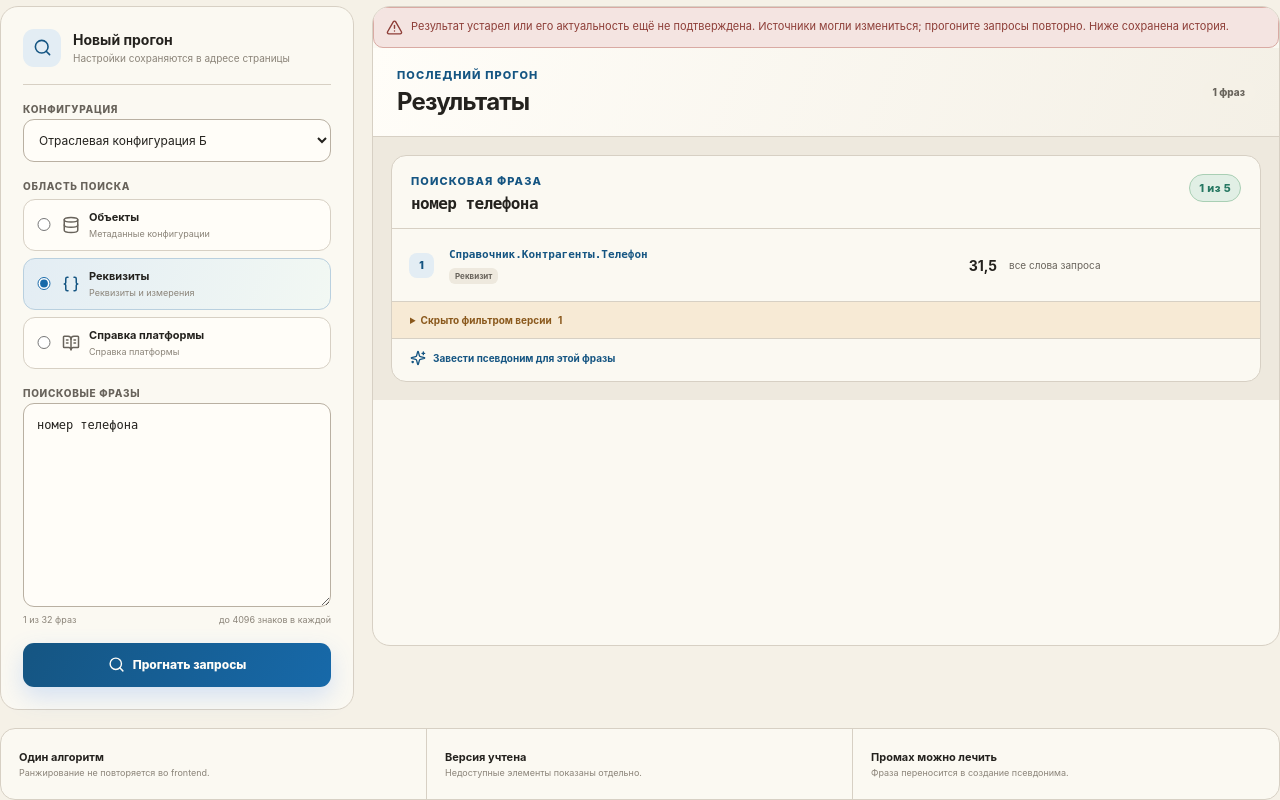
Test: помечает сохранённую выдачу ревизии old-generation, не теряя фразы и ссылки
(page scrolled)
Expected: the text "Результат устарел" is shown, [411, 18, 1229, 32]
Expected: the text box labelled "Поисковые фразы" holds "номер телефона", [23, 402, 331, 607]
Click the button "Прогнать запросы" at (177, 665), box [23, 643, 331, 687]
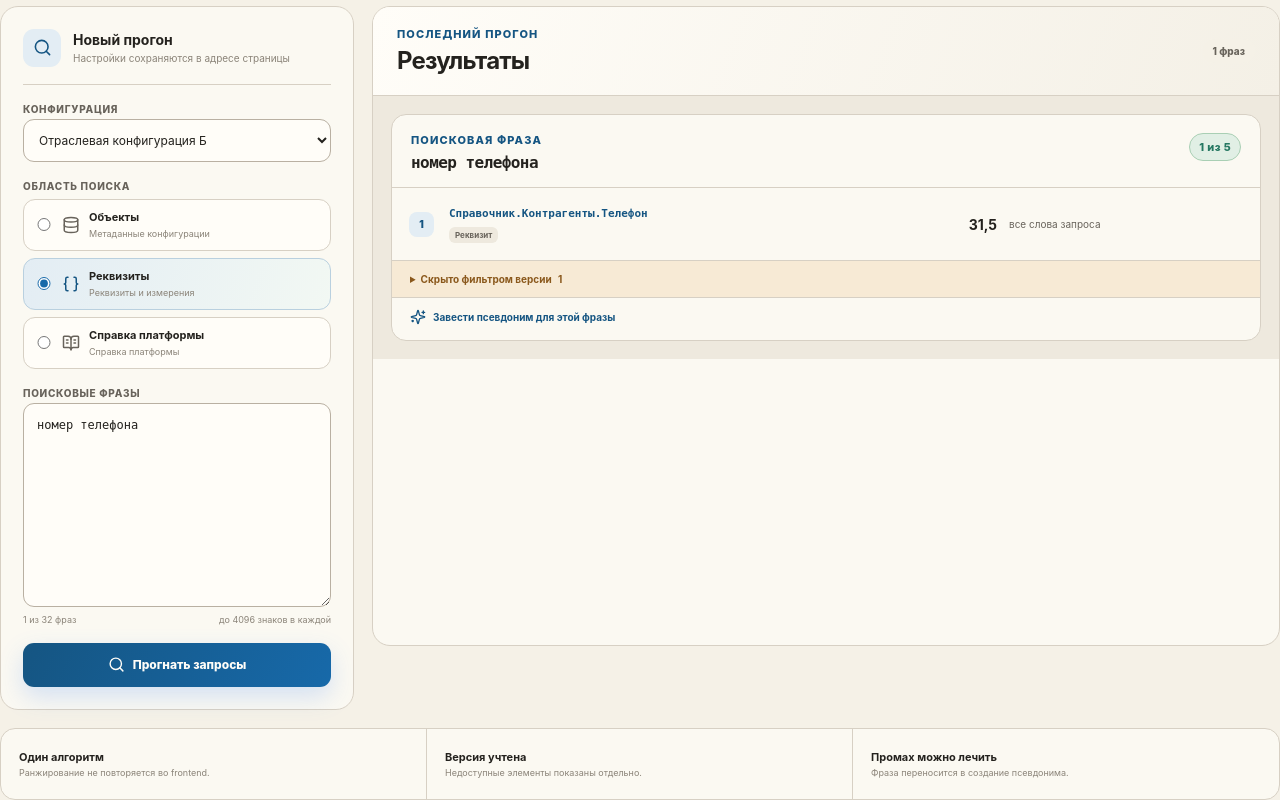
Result: the text "Результат устарел" is gone
